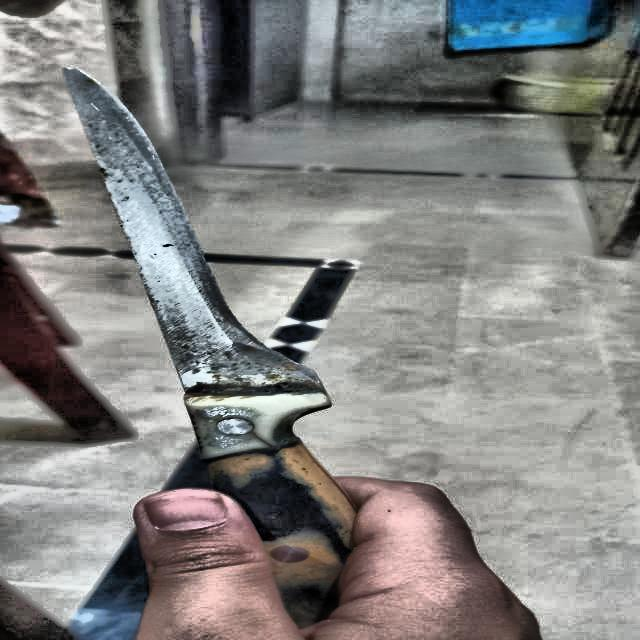knife: (66, 68, 357, 630)
